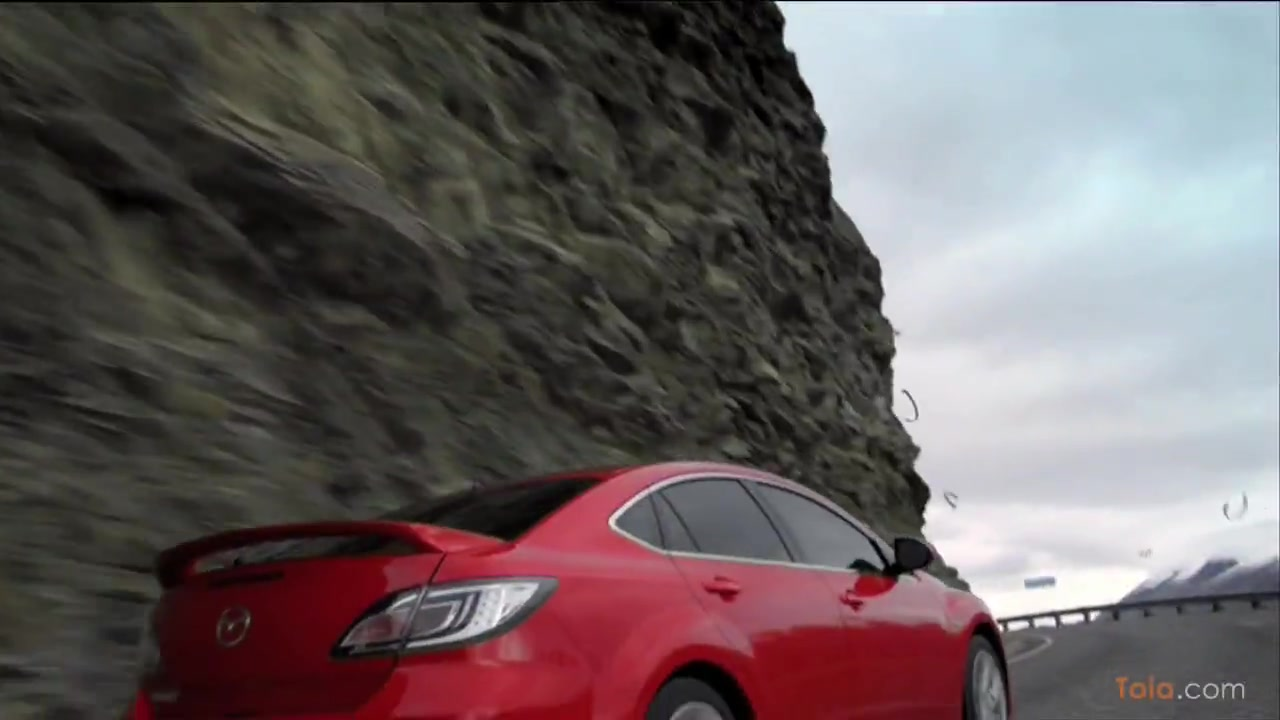car: (130, 453, 1017, 720)
